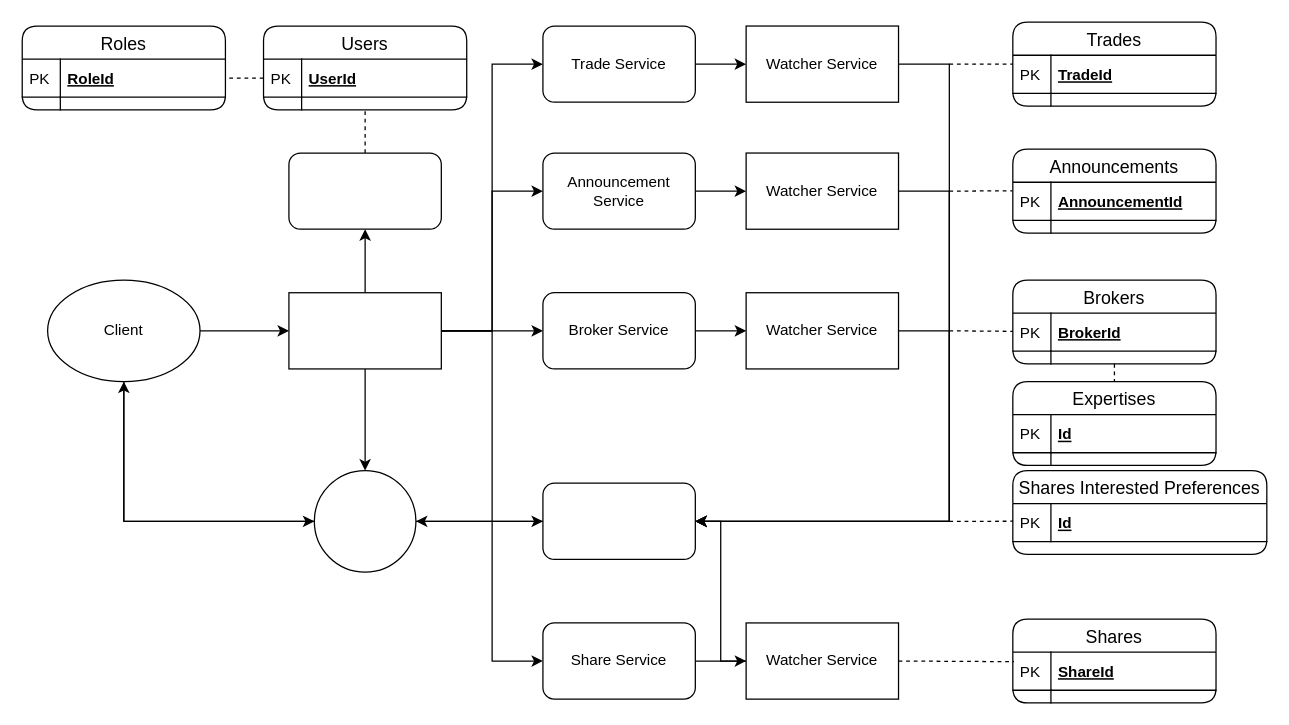
This 1289x725 diagram has some shape labels left out. The centre of each missing label's shape, as x and y in pixels:
"Account Service" belongs at point (364, 190).
"Authorization" belongs at point (364, 330).
"Notification Hub" belongs at point (364, 520).
"Notification Service" belongs at point (618, 520).
